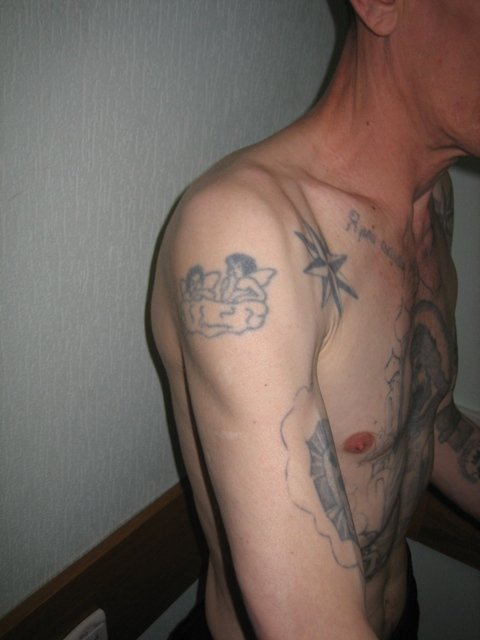tatu1_angel: (174, 251, 278, 343)
tatu4_zvezda: (289, 224, 362, 319)
